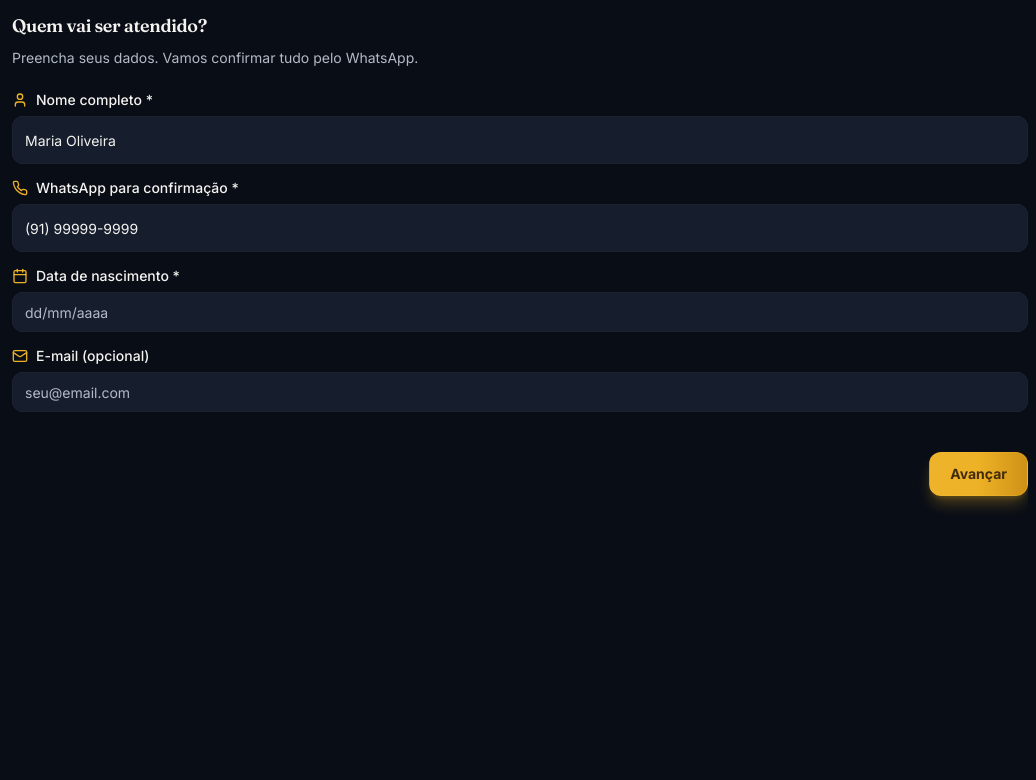
PersonalDataStep — data de nascimento obrigatória › erro se limpa quando a data se torna válida
Type "01/01/2999" into the field labelled "Data de nascimento *" at x=520, y=312, box left=12, top=292, right=1028, bottom=332
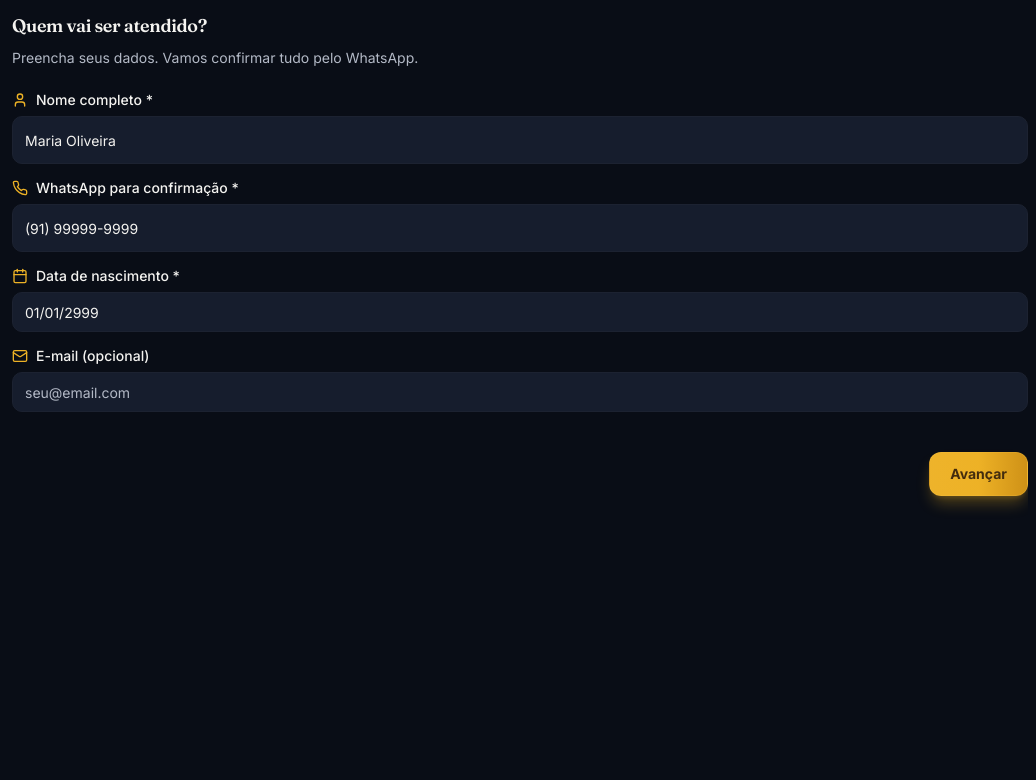
Click the button "Avançar" at x=979, y=474, box left=929, top=452, right=1028, bottom=496
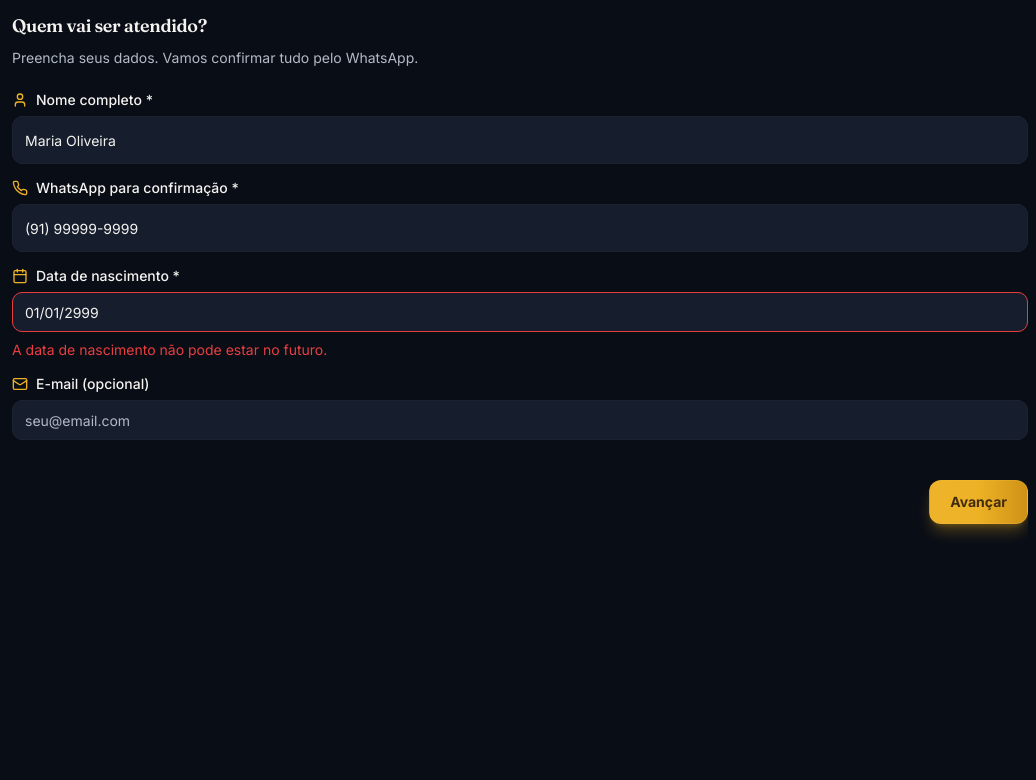
Expected: the text "A data de nascimento não pode estar no futuro." is shown, left=12, top=341, right=327, bottom=358
Replace the text in the field labelled "Data de nascimento *" with "15/06/1988" at x=520, y=312, box left=12, top=292, right=1028, bottom=332
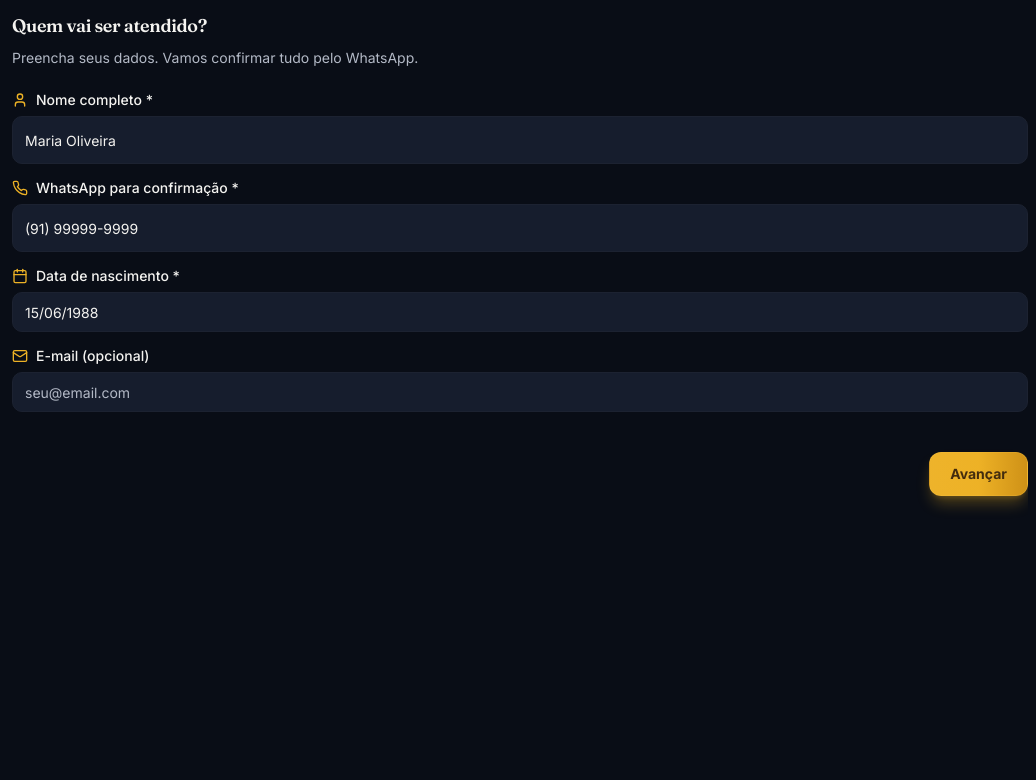
Expected: the text "futuro" is gone
